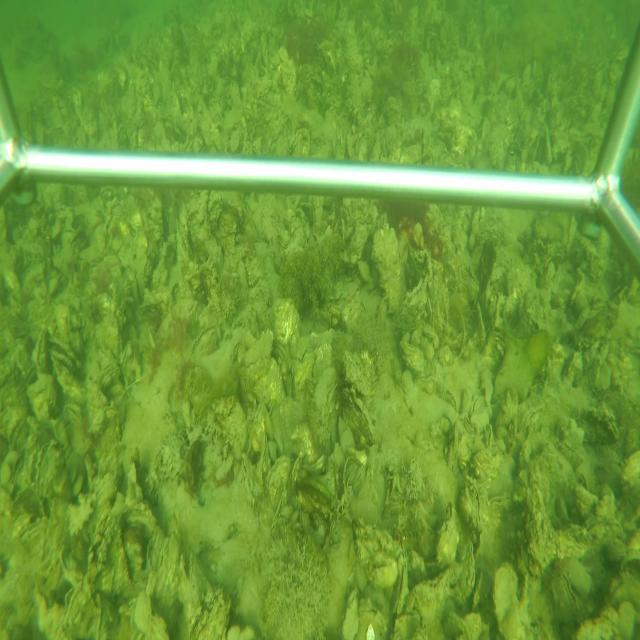Oyster-Closed: (122, 501, 159, 571), (312, 363, 339, 450), (550, 565, 580, 625), (400, 262, 429, 319), (454, 535, 476, 609), (344, 394, 375, 445), (36, 440, 63, 498), (388, 547, 408, 624), (338, 587, 358, 640), (343, 457, 365, 497), (466, 390, 485, 424), (382, 472, 396, 511)
Oyster-Indeterminate: (371, 225, 404, 316), (493, 561, 525, 638), (240, 355, 284, 407)
Oyster-Open: (47, 334, 83, 375)
